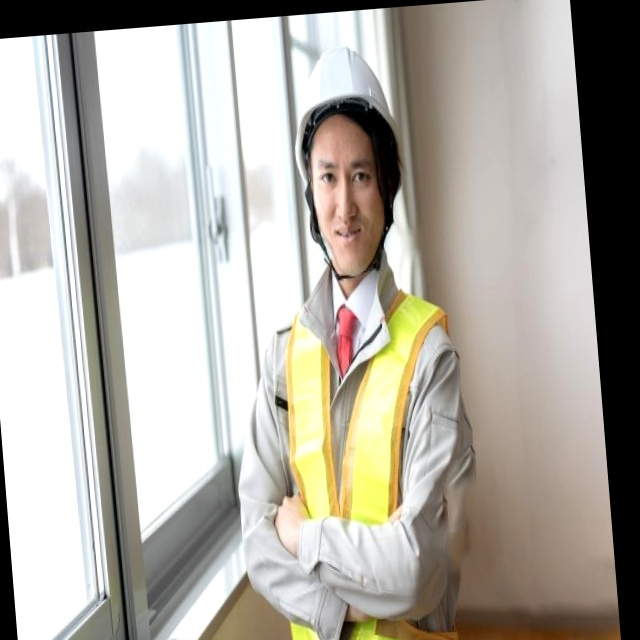Con_Casco: (287, 40, 413, 270)
Con_Chaleco: (263, 280, 468, 640)
